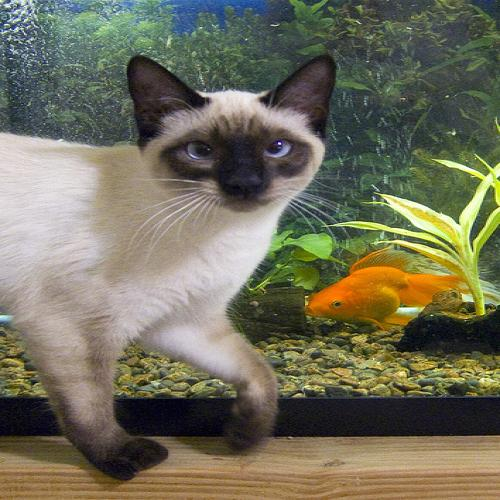siamese: (117, 44, 366, 229)
